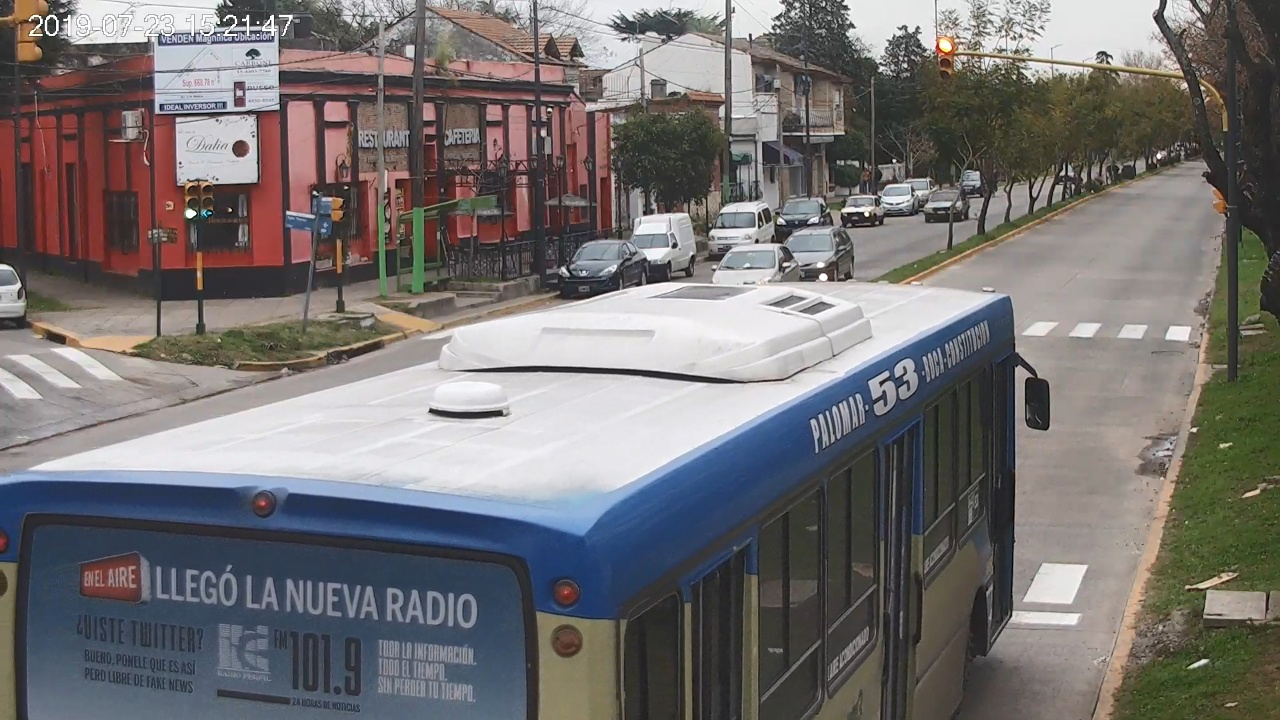bus: (2, 281, 1050, 720)
traffic light: (938, 38, 953, 81)
